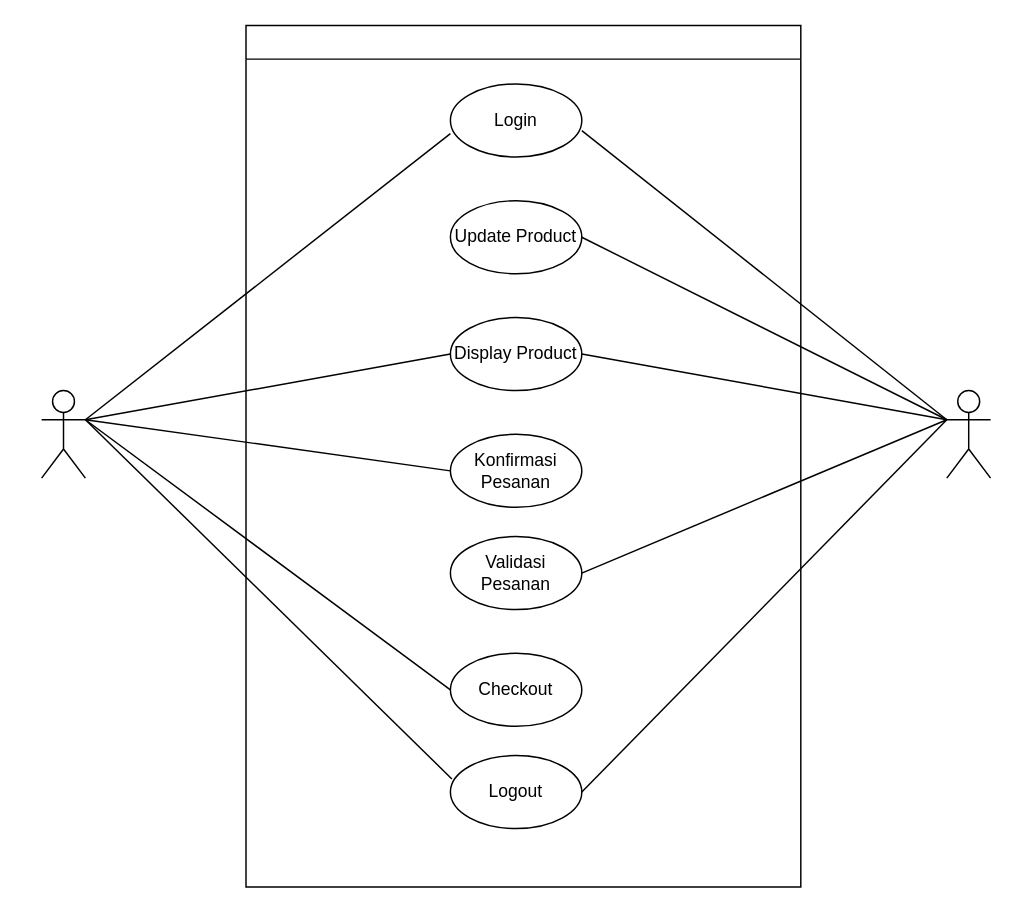
This 1018x913 diagram has some shape labels left out. The shapes that lost their labels are listed below. From the top down, each one's centre as x and y in pixels, then its label:
At point 62,433: "Customer".
At point 968,433: "Admin".
At point 523,455: "Penjualan Sayuran Hydroponik Berbasis Mobile (V_Mart)".
